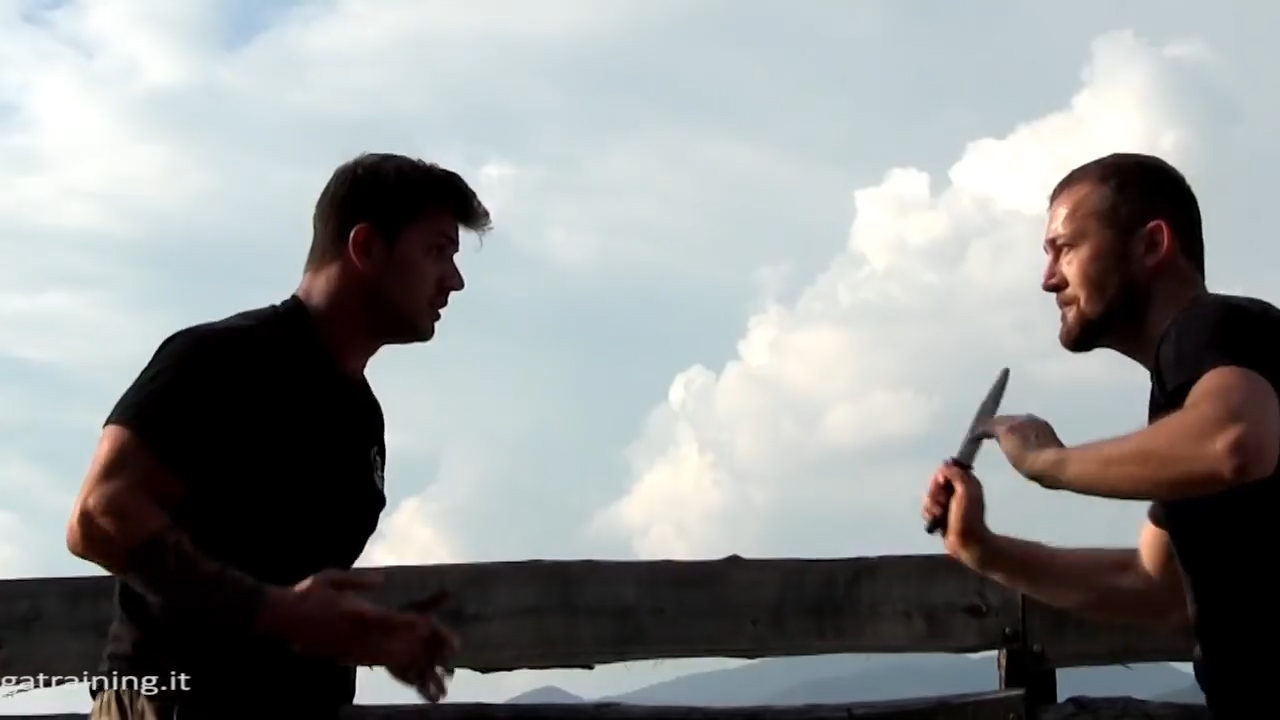knife: (915, 354, 1015, 543)
